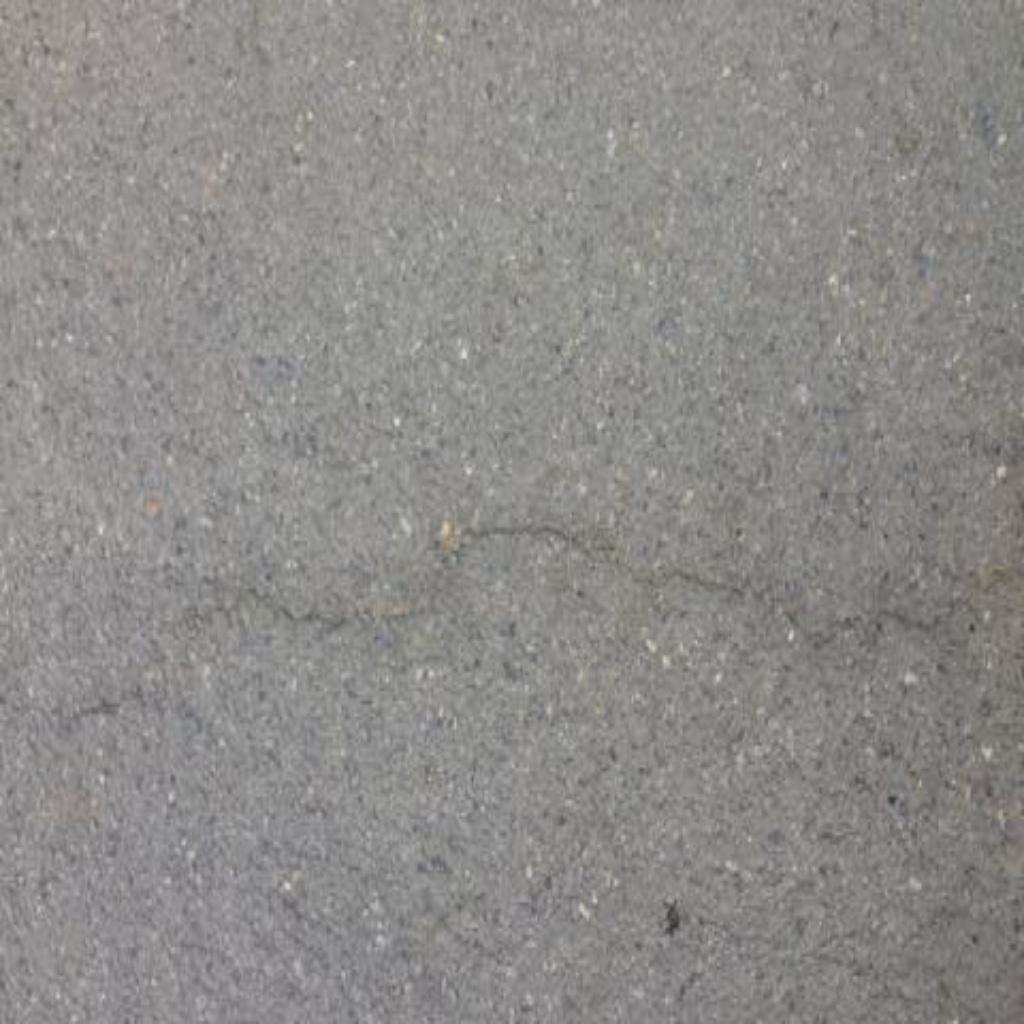Crack: (204, 522, 953, 645)
